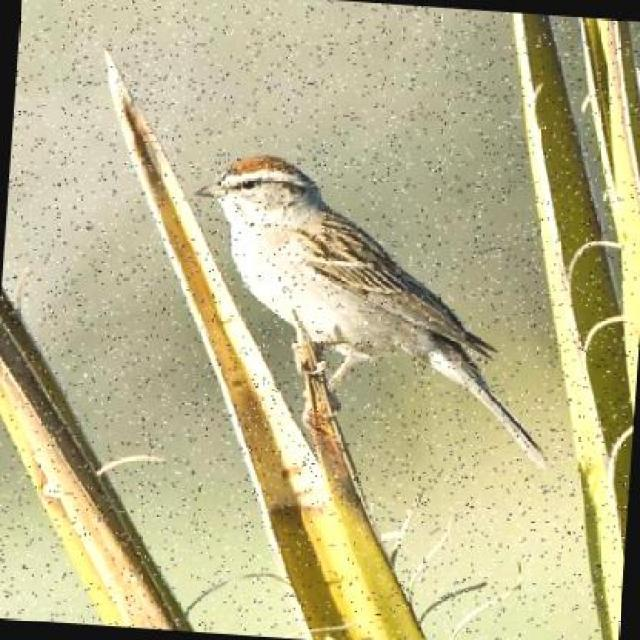Bird: (192, 152, 548, 481)
